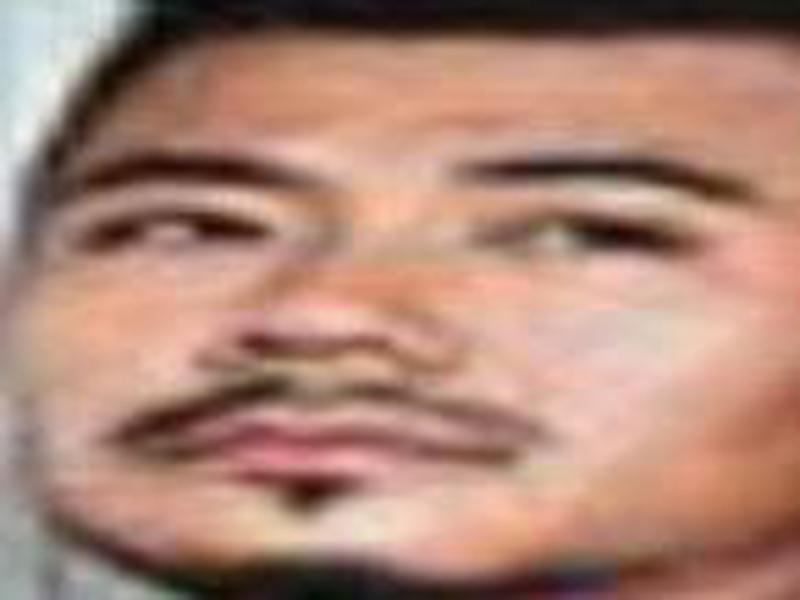without_mask: (33, 87, 783, 568)
